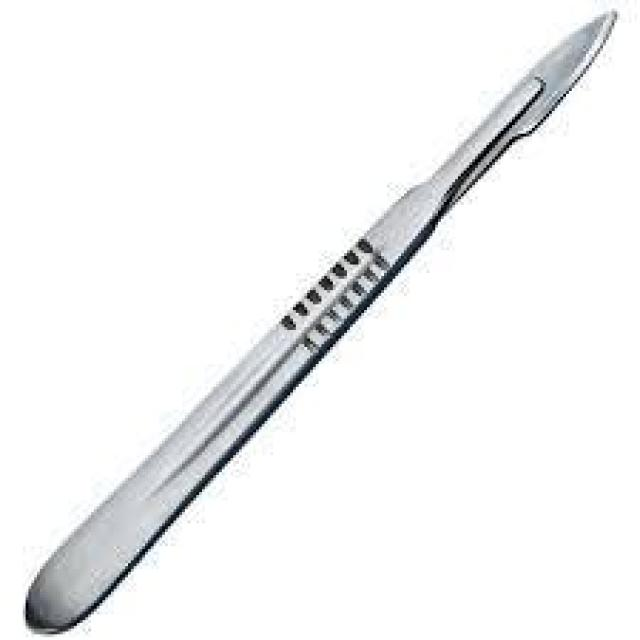B3: (6, 0, 628, 640)
